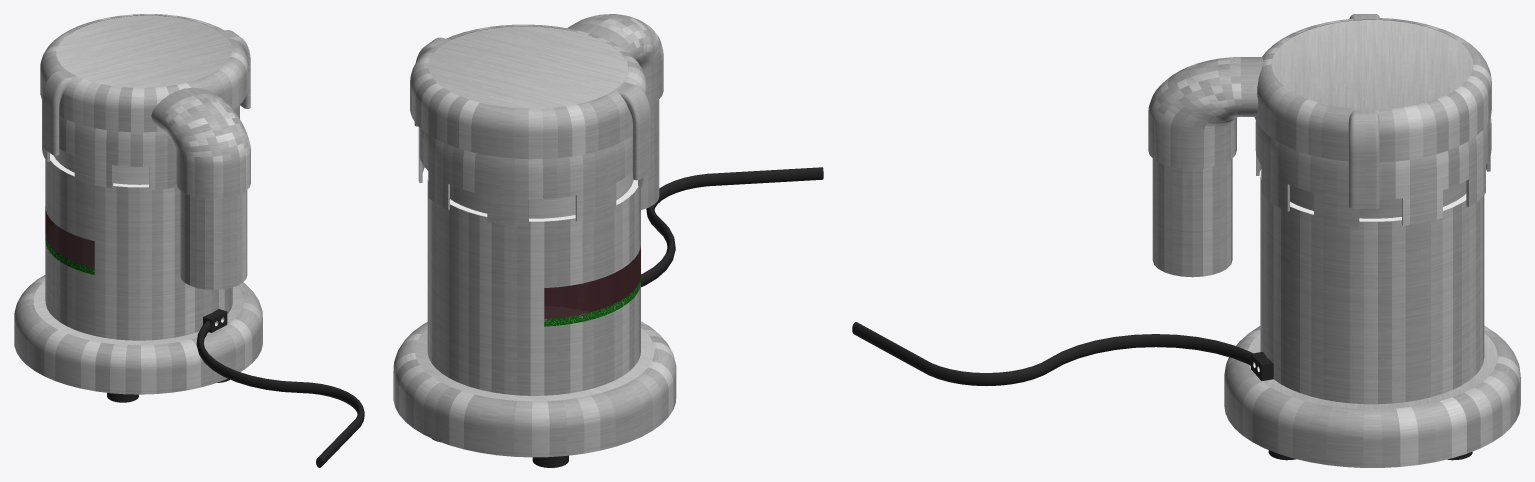
Rendered from Juice_Extractor.dae.
3 renders of one model, left to right at view 1: azimuth 30°, elevation 25°; view 2: azimuth 150°, elevation 25°; view 3: azimuth 270°, elevation 25°, orthographic. The views are drawn at different scales.
Visible parts, largest first — view 1: group_0 (×13), group_1, group_2; view 2: group_0 (×13), group_1; view 3: group_0 (×10), group_2.
Boxes of the visible parts, <box> form: group_0 (×13): <box>14,14,364,467</box>; group_1: <box>42,70,73,155</box>; group_2: <box>218,30,250,108</box>; group_0 (×13): <box>393,14,823,457</box>; group_1: <box>616,83,651,180</box>; group_0 (×10): <box>852,18,1520,467</box>; group_2: <box>1348,108,1379,208</box>.
Size of the model in its own units: 7.87 by 17.79 by 10.75.
6 materials, 2 textured.
